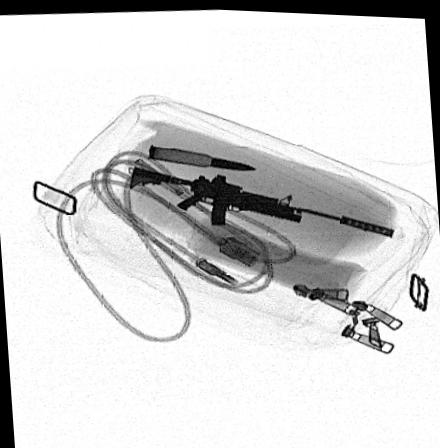Bullet: (147, 144, 258, 169)
Gun: (127, 166, 396, 233)
